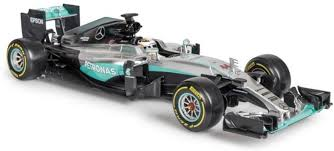FormulaOneCar: (7, 1, 334, 138)
